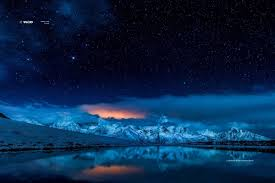mountain: (1, 115, 274, 145)
sea: (6, 146, 275, 182)
sky: (2, 2, 274, 117)
